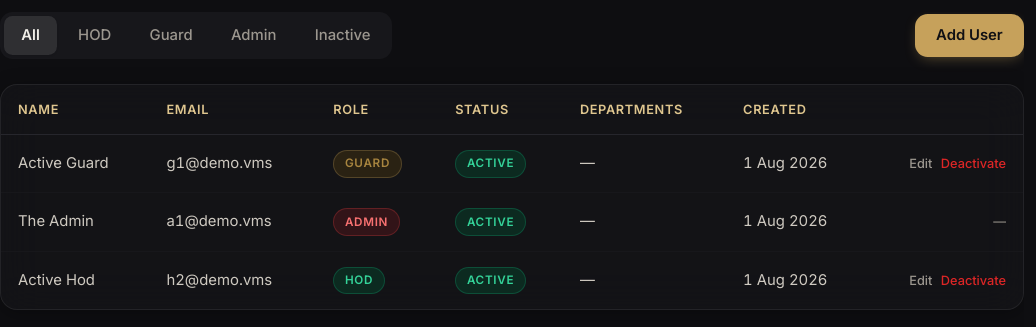
Test: UsersTab — every tab but Inactive is active-only › the Inactive tab holds every one of them, and nobody active
This screenshot has width=1036, height=327.
Expected: the text "Active Guard" is shown, 1,135 -> 149,193
Click the button "Inactive".
click(343, 35)  # box 298,16 -> 388,55
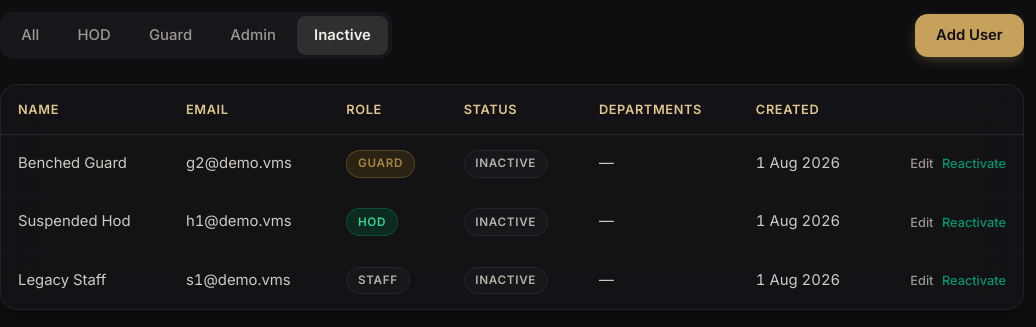
Expected: the text "Benched Guard" is shown, 1,135 -> 169,193
Expected: the text "Suspended Hod" is shown, 1,193 -> 169,251
Expected: the text "Legacy Staff" is shown, 1,251 -> 169,309
